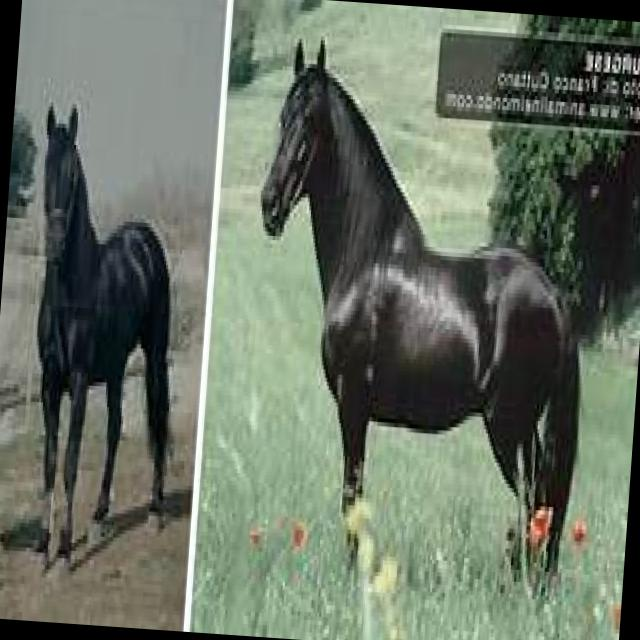horse: (234, 32, 606, 598), (17, 98, 198, 573)
